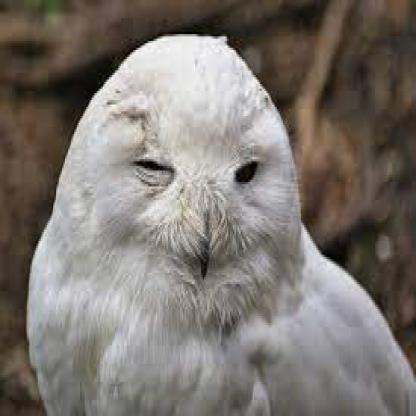owl: (34, 27, 411, 415)
